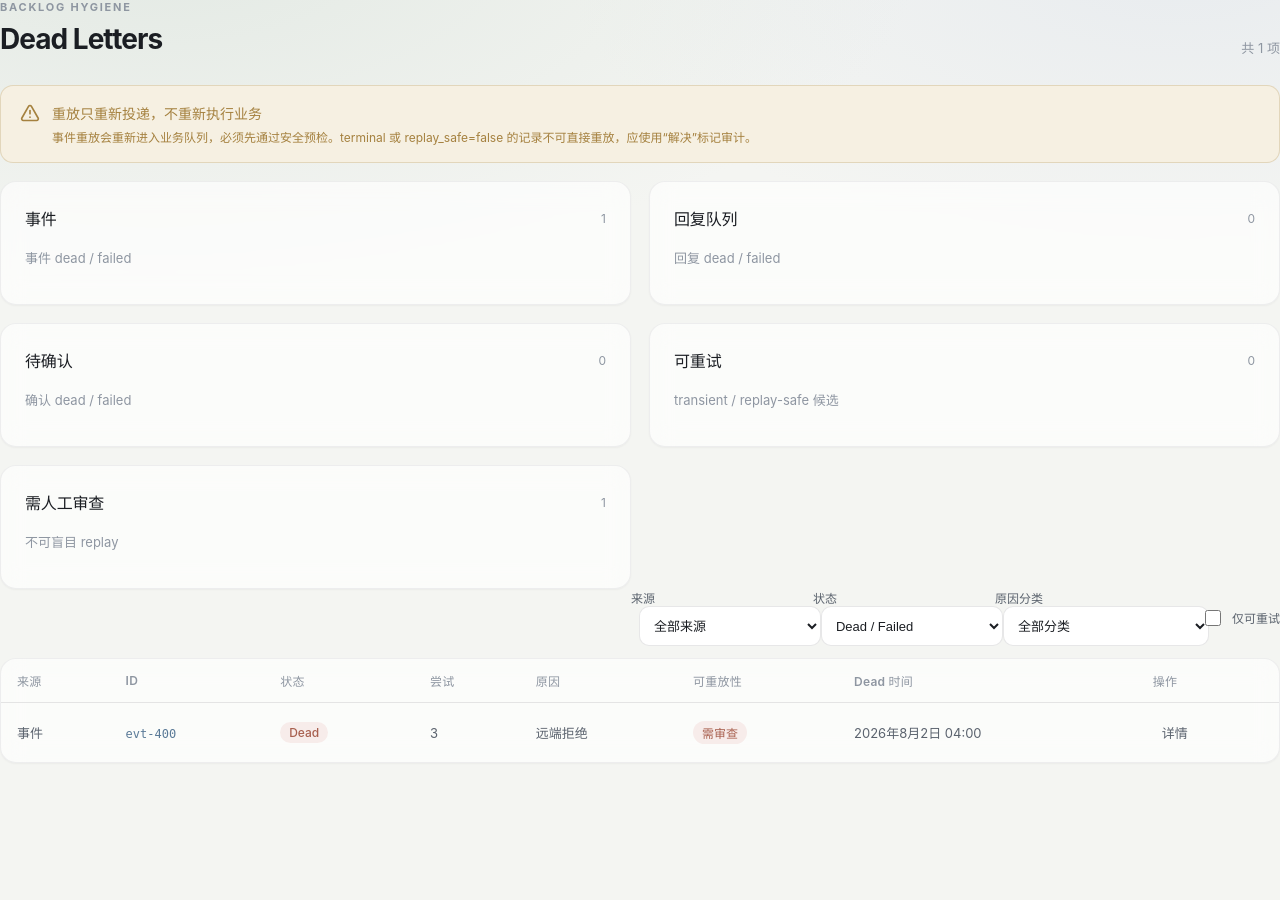
Test case: DeadLettersPage › resolves without replaying and marks the item resolved
Click the button "详情".
click(1175, 732)  # box [1153,717,1197,748]
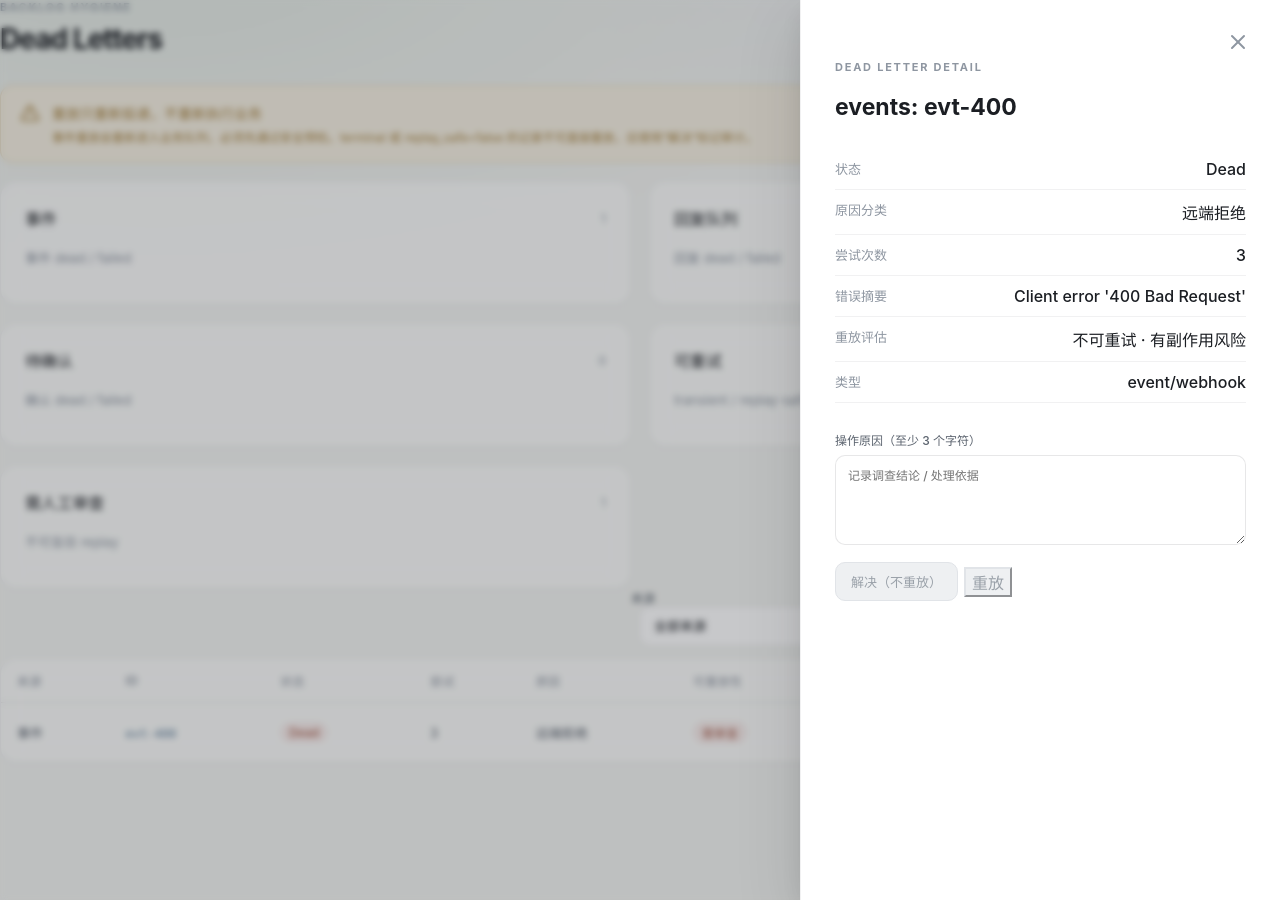
Type "permanent failure, acknowledge" into the text box with placeholder "记录调查结论 / 处理依据".
click(1040, 500); type("permanent failure, acknowledge")  # box [835,455,1246,545]
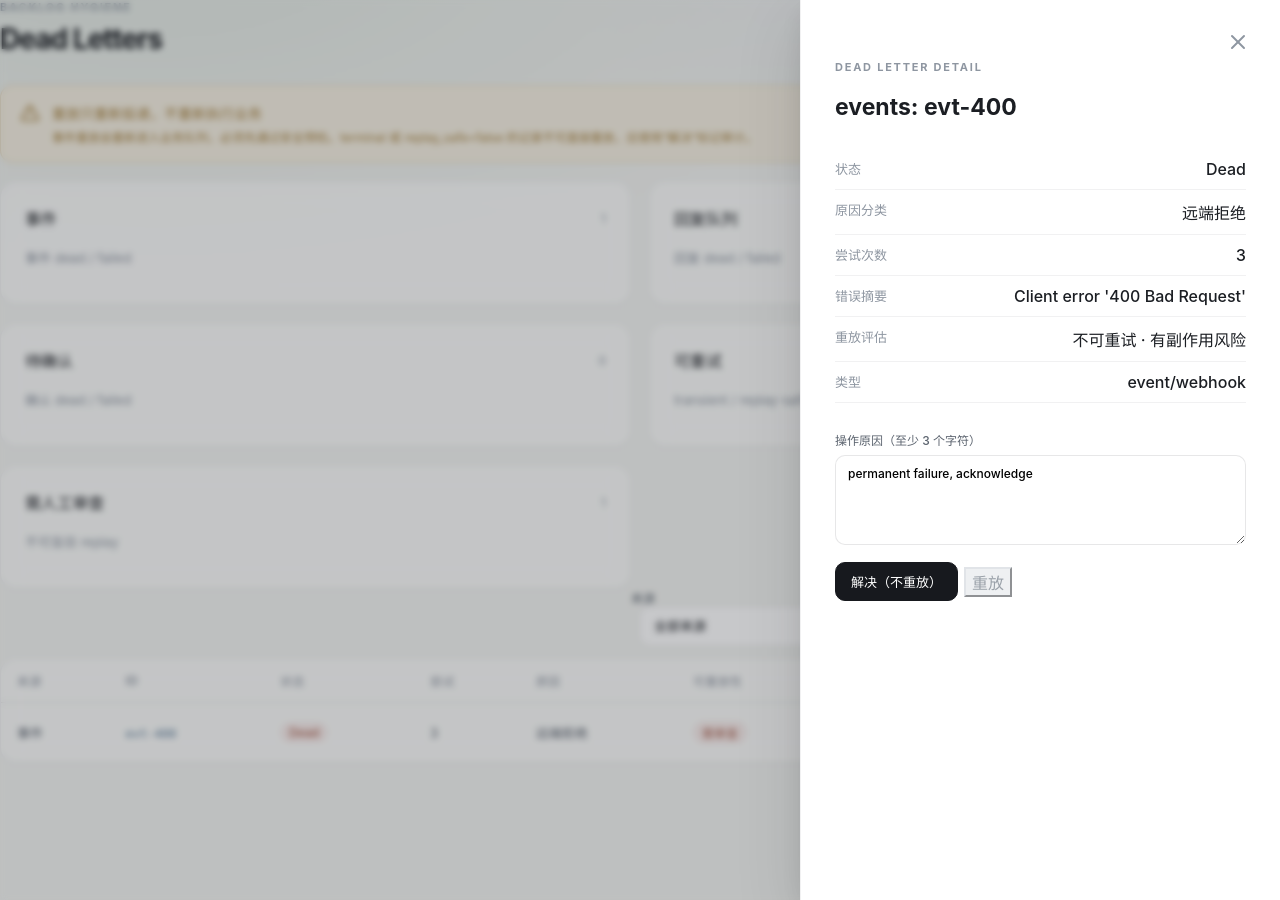
Click the button "解决（不重放）".
click(896, 582)  # box [835,562,958,601]
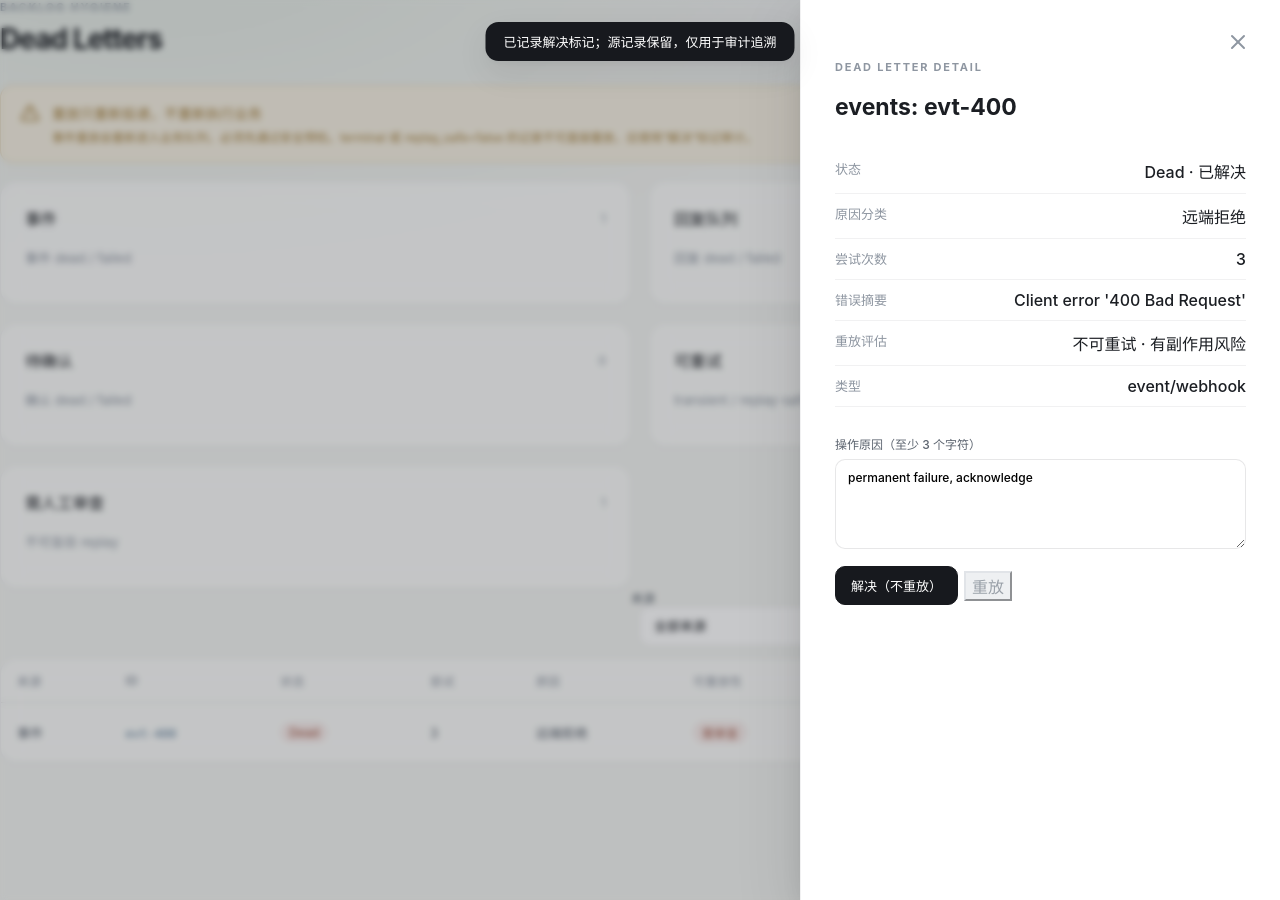
Expected: the text "已记录解决标记；源记录保留，仅用于审计追溯" is shown, [486,22,794,61]
Expected: the text "Dead · 已解决" is shown, [1144,162,1246,182]
